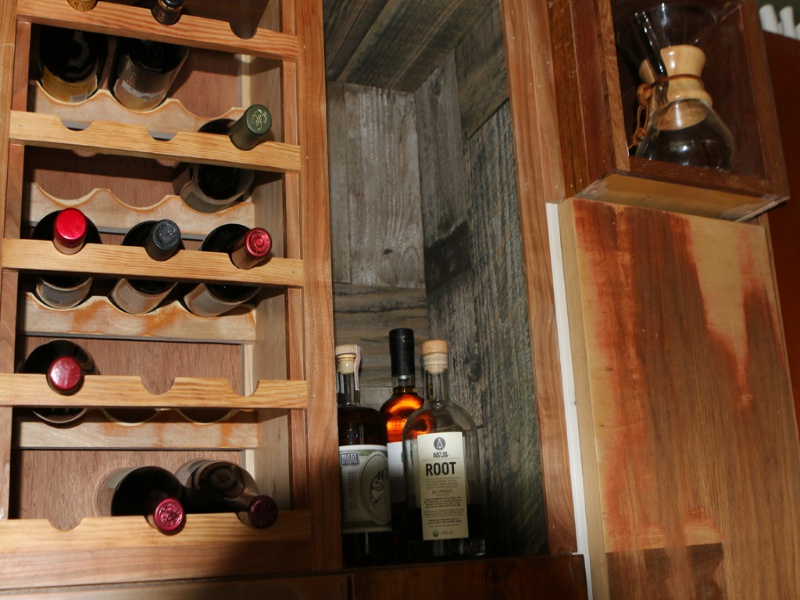wine: (3, 2, 302, 543), (331, 317, 494, 559)
